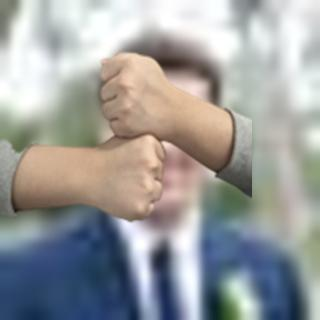CAREFUL: (50, 52, 237, 221)
